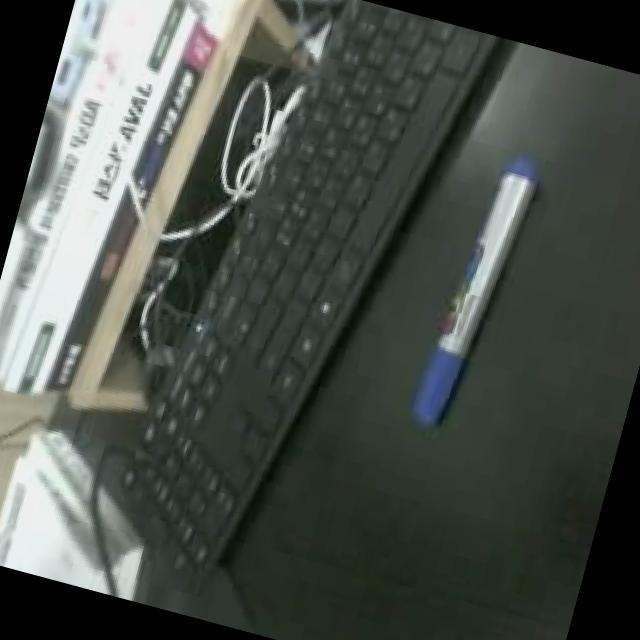board-marker: (400, 151, 550, 451)
